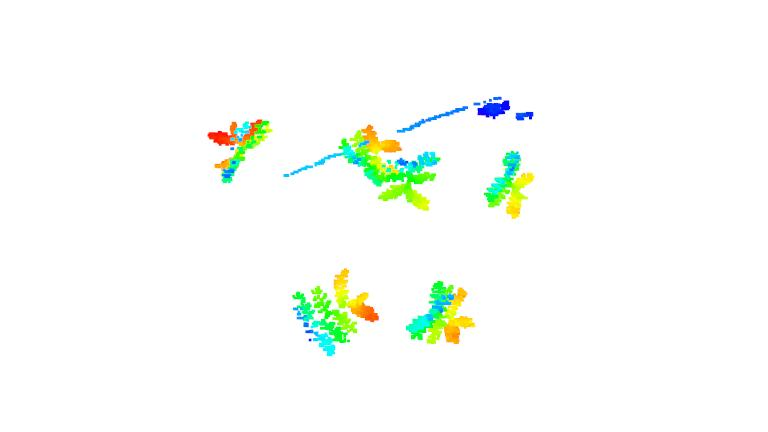chickpea: (290, 270, 381, 358), (209, 113, 273, 181), (405, 281, 470, 344), (377, 152, 443, 212), (480, 148, 535, 219), (339, 124, 388, 181)
